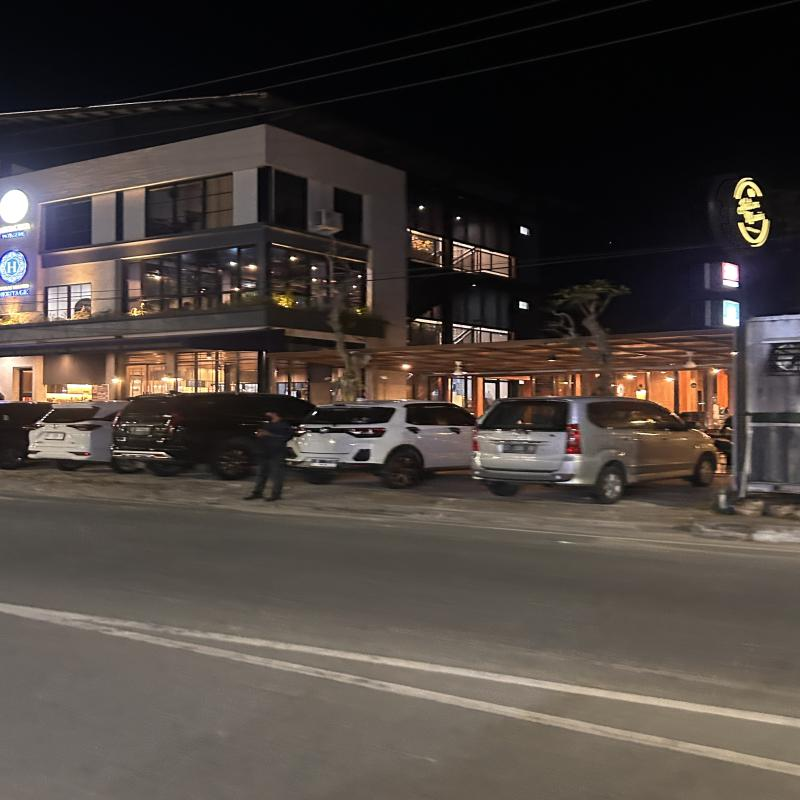license plate on a car: (497, 437, 544, 456), (304, 453, 341, 471), (127, 423, 162, 438), (36, 427, 71, 442)
